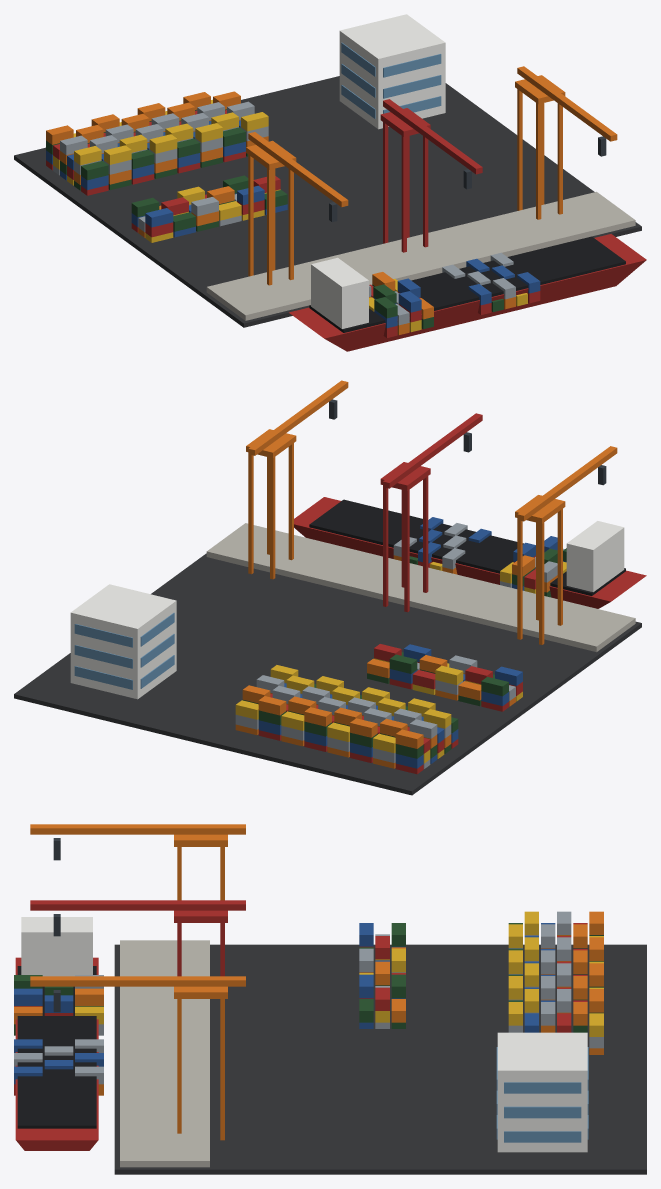
The model's file is building_pelabuhan_kontena.glb.
3 views of the same model, one above another, from view 1: azimuth 30°, elevation 25°; view 2: azimuth 150°, elevation 25°; view 3: azimuth 270°, elevation 25° (orthographic). The views are drawn at different scales.
Visible parts, largest first — view 1: building_pelabuhan_kontena; view 2: building_pelabuhan_kontena; view 3: building_pelabuhan_kontena.
Part boxes in pixels (x1,y1,x2,y2): building_pelabuhan_kontena: (14, 14, 646, 351); building_pelabuhan_kontena: (14, 380, 646, 795); building_pelabuhan_kontena: (14, 824, 646, 1174).
Bounding box in the file's own units: 2.96 × 1.06 × 3.52.
